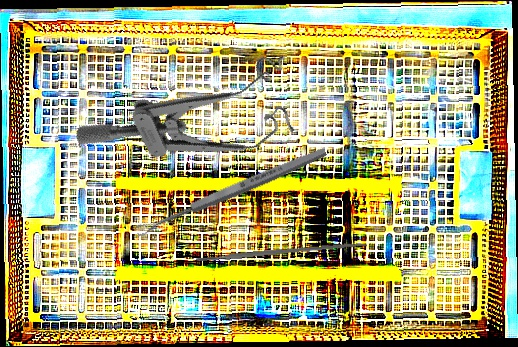Scalpel Handle: (196, 240, 367, 263)
Speculum: (70, 35, 318, 217)
Surgical Spoon: (133, 145, 329, 238)
